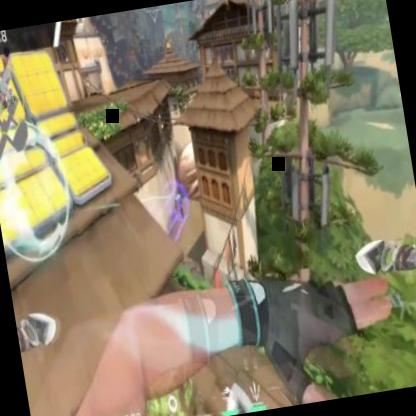enemy: (173, 192, 185, 219)
enemy_head: (176, 194, 180, 198)
